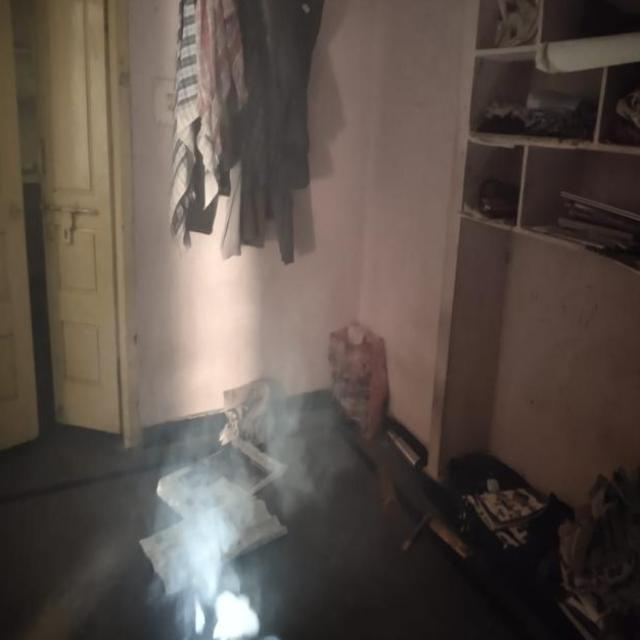fire: (147, 372, 322, 639)
